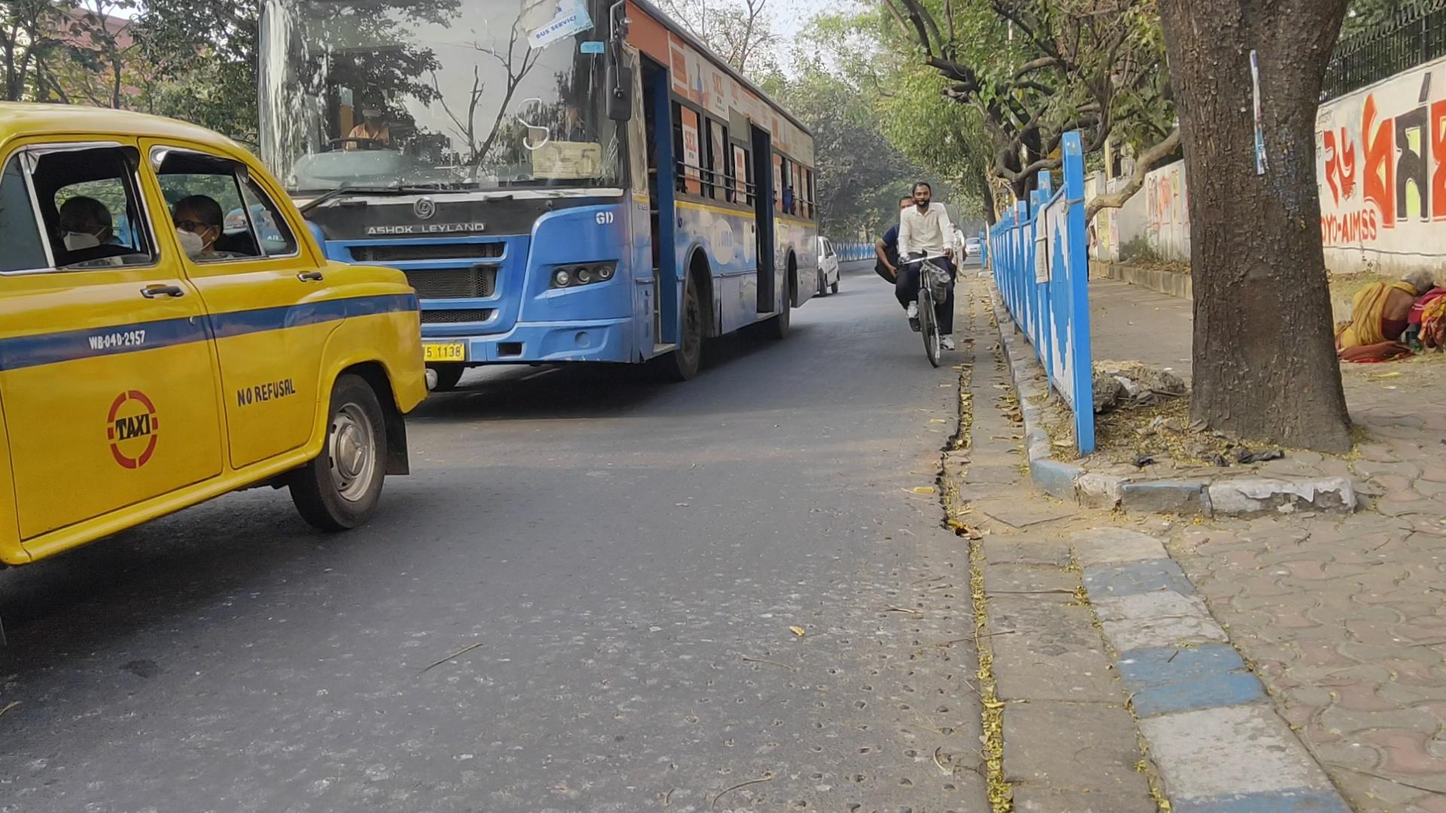Bus: (258, 2, 820, 394)
bike: (885, 183, 956, 367)
car: (2, 99, 437, 601)
